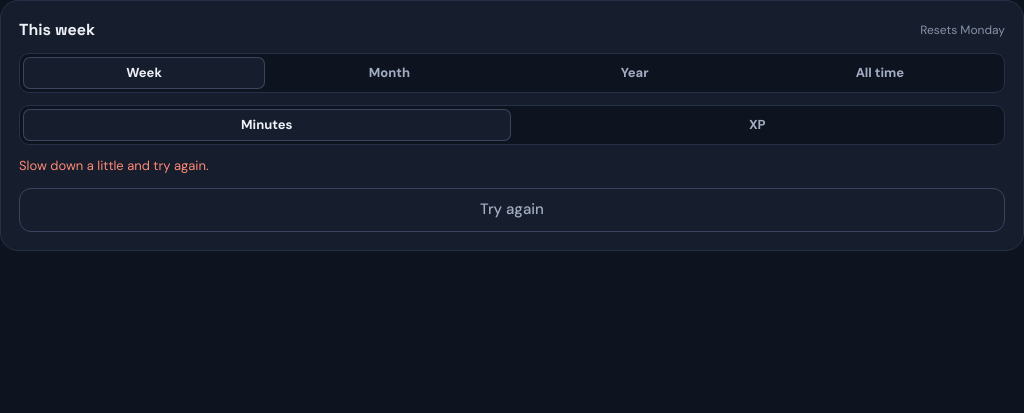
it: WeeklyLeaderboard › shows the server's message when the board can't load, and retries
Expected: the message reads "Slow down a little and try again.", [19, 157, 208, 174]
Click the button "Try again". click: [512, 210]
box: [19, 188, 1005, 232]
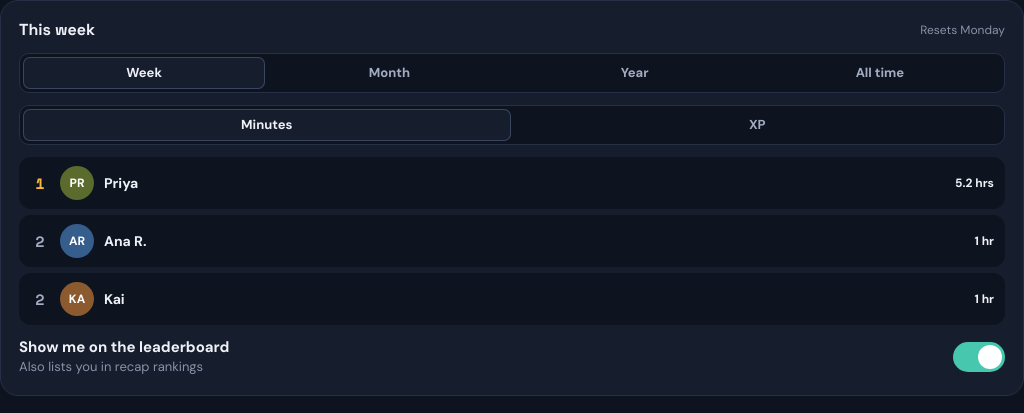
Expected: the message "Slow down a little and try again." is gone
